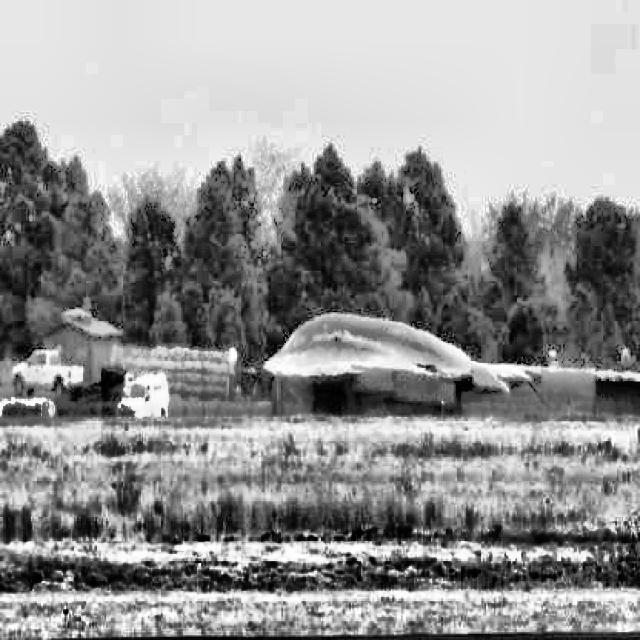B2: (262, 312, 640, 414)
